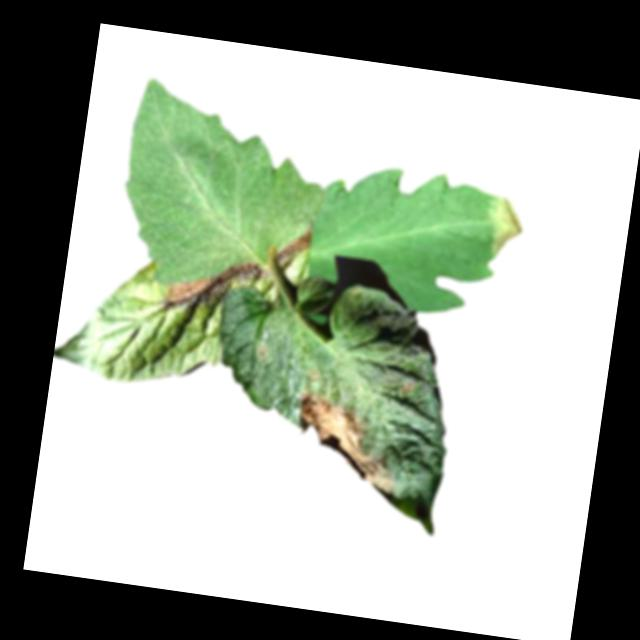Late_blight: (287, 390, 404, 495), (163, 250, 266, 318), (486, 195, 527, 262), (277, 223, 312, 265)
healthy: (109, 75, 337, 300)
